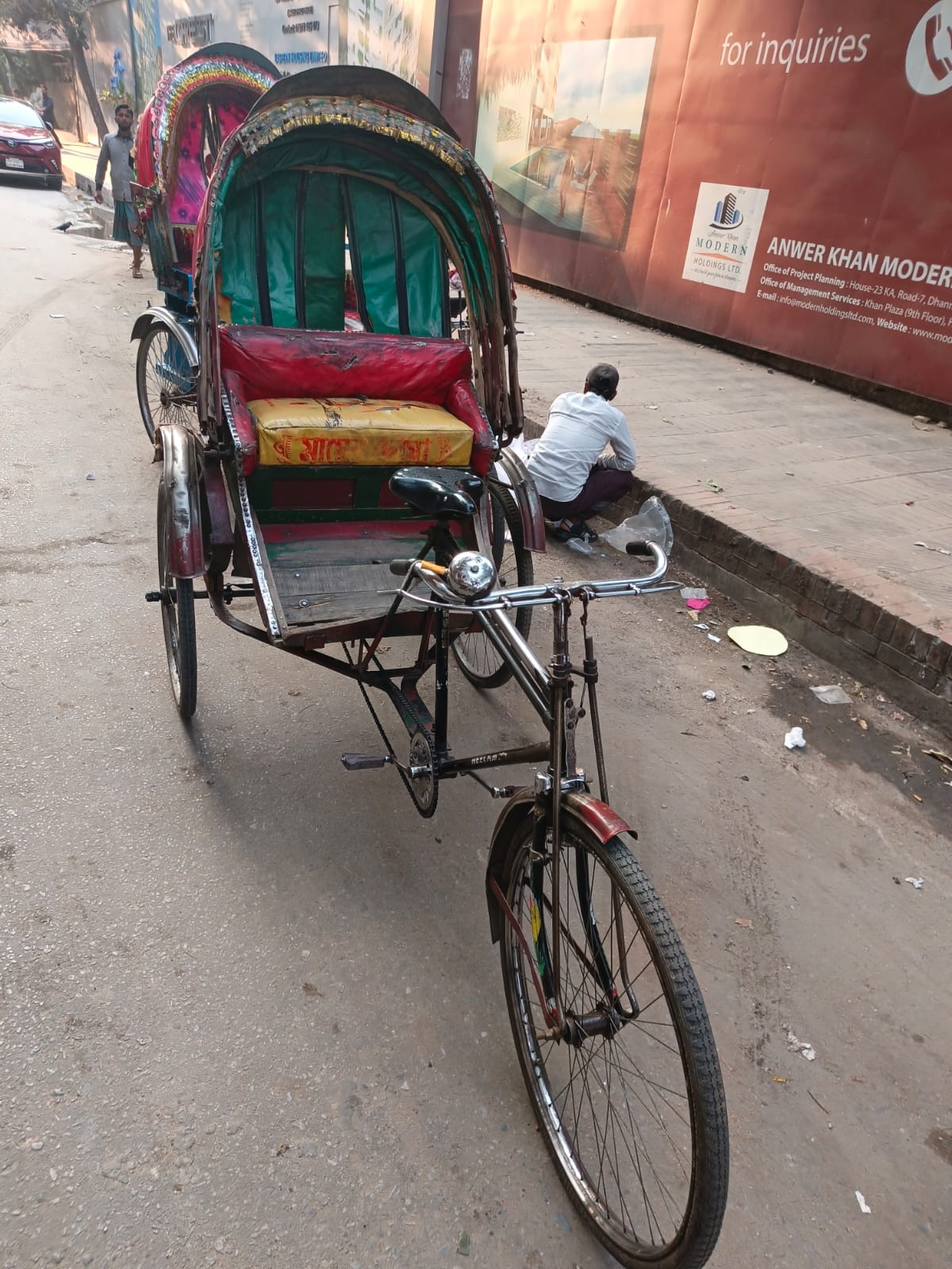auto-ricksaw: (131, 53, 759, 1263)
